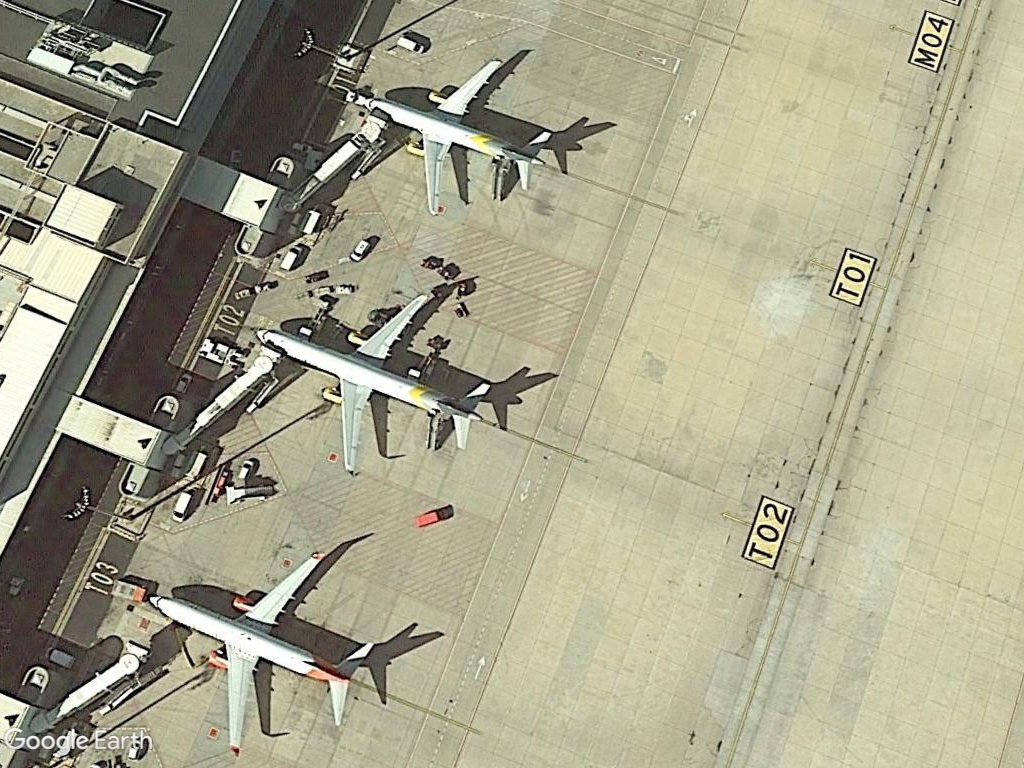airliner: (146, 538, 382, 758), (257, 288, 494, 478), (354, 47, 558, 219)
van: (165, 488, 197, 527), (274, 242, 308, 275), (389, 31, 431, 56), (346, 236, 373, 265)
